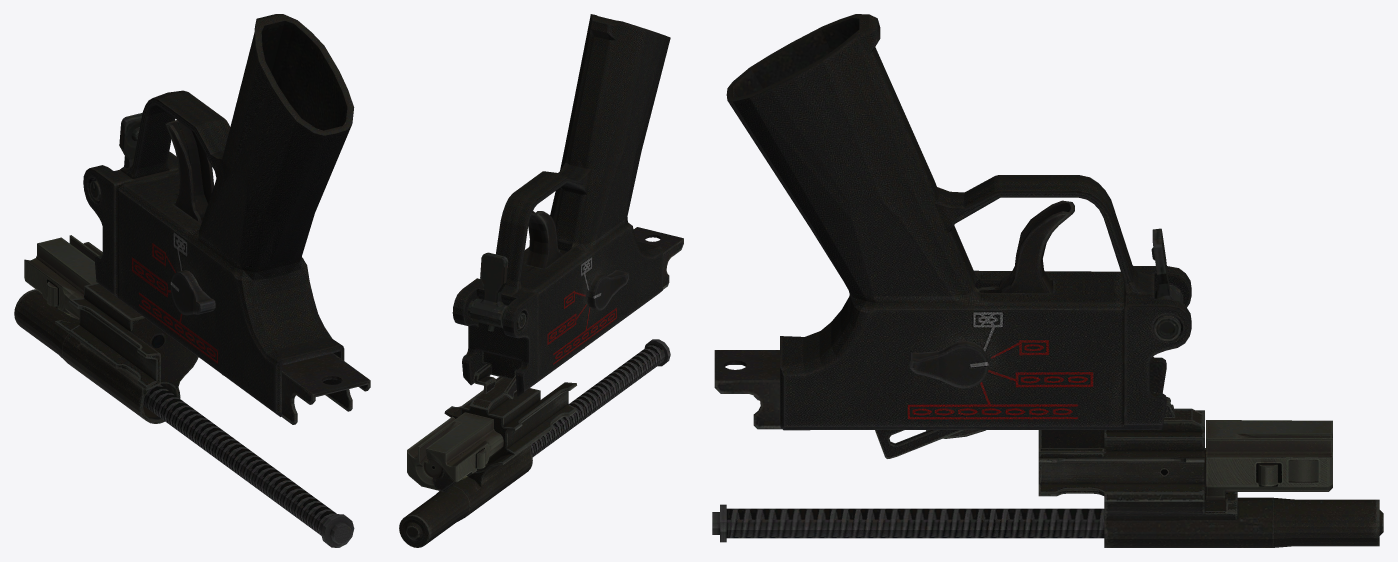
The picture shows the model from 3 angles, left to right: view 1: azimuth 30°, elevation 25°; view 2: azimuth 150°, elevation 25°; view 3: azimuth 270°, elevation 25°; orthographic projection. The views are drawn at different scales.
Parts seen in each view (by area): view 1: TW_5926bb2186f7744b1c6c6e60_PZ_Import; view 2: TW_5926bb2186f7744b1c6c6e60_PZ_Import; view 3: TW_5926bb2186f7744b1c6c6e60_PZ_Import.
Part boxes in pixels (<box>): TW_5926bb2186f7744b1c6c6e60_PZ_Import: <box>14,14,370,547</box>; TW_5926bb2186f7744b1c6c6e60_PZ_Import: <box>399,14,683,547</box>; TW_5926bb2186f7744b1c6c6e60_PZ_Import: <box>712,14,1383,547</box>.
Bounding box in the file's own units: 0.0227 × 0.1199 × 0.1034.
Materials: 1 (1 with a texture image).
